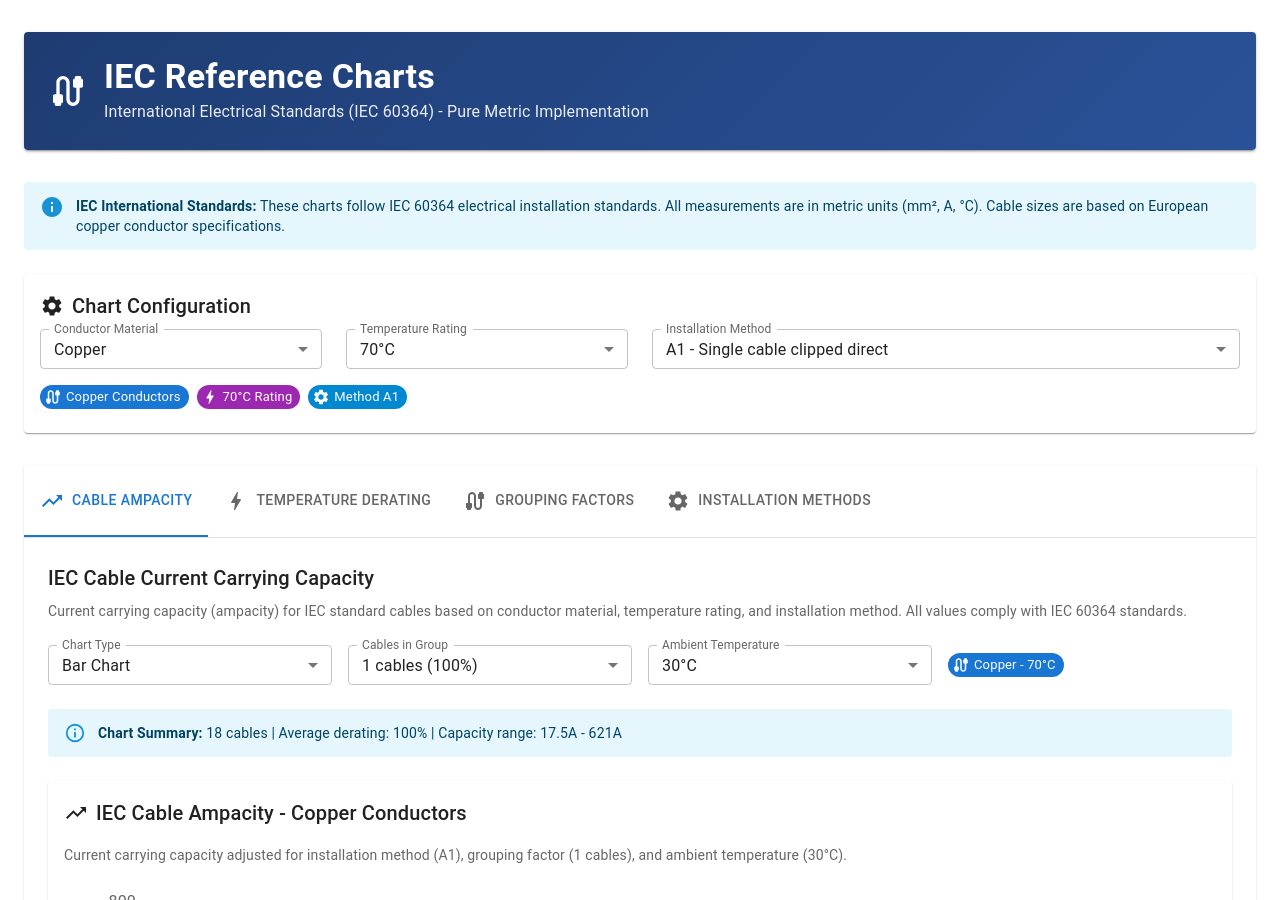
it: IECReferenceChartsPage › Chart Tabs › should show coming soon message for unimplemented tabs
Note: Click on Grouping Factors tab
Click the tab "Grouping Factors".
click(549, 501)  # box [447,465,650,537]
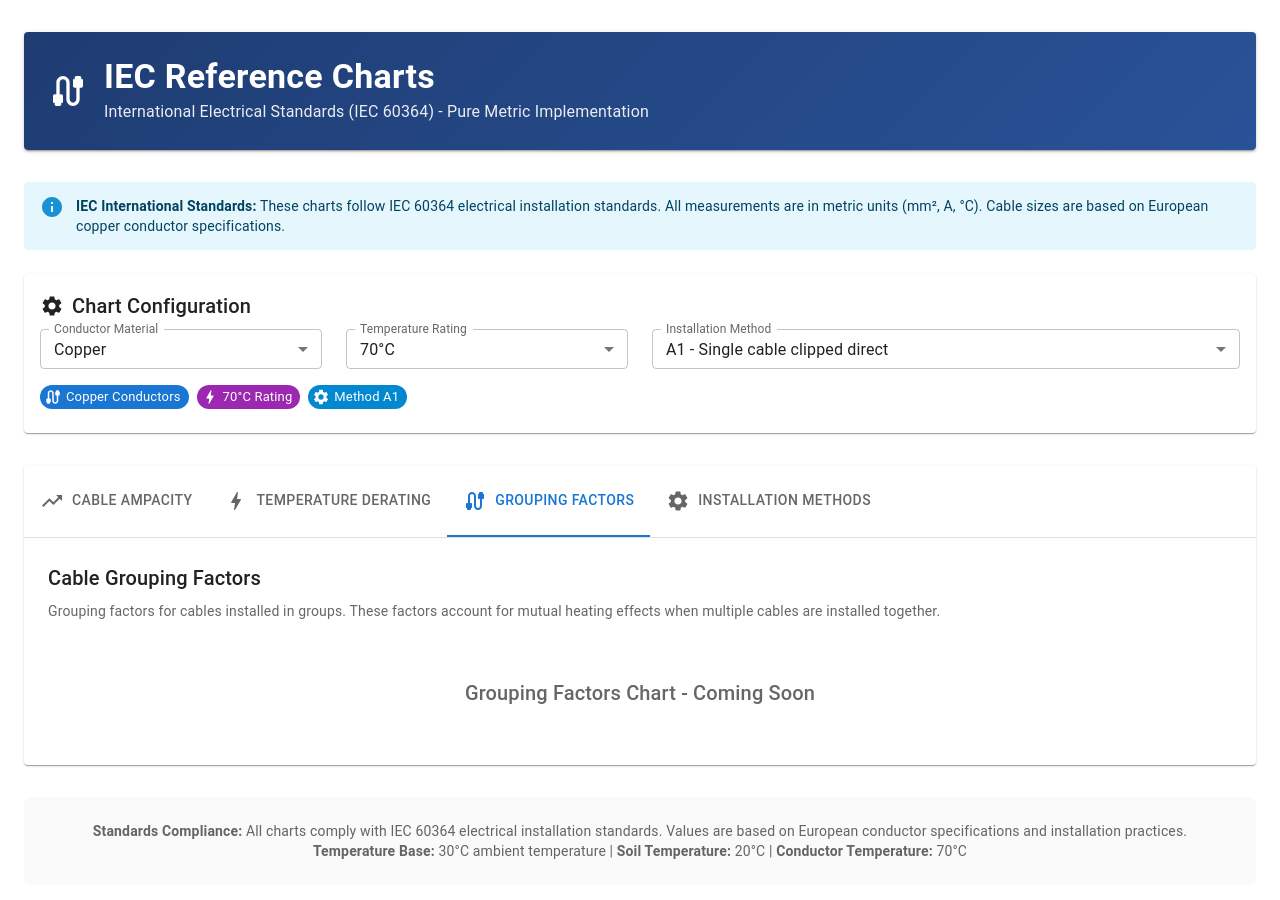
Expected: the heading "Grouping Factors Chart - Coming Soon" is shown, [465,677,815,709]
